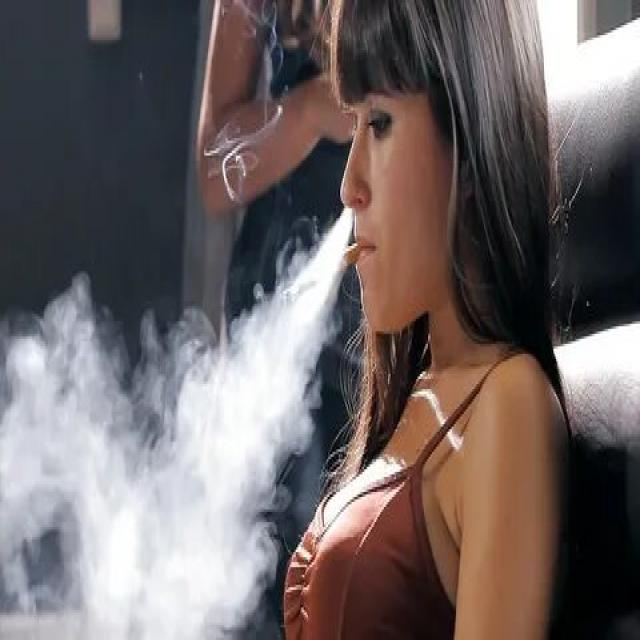smoke: (279, 238, 364, 314)
